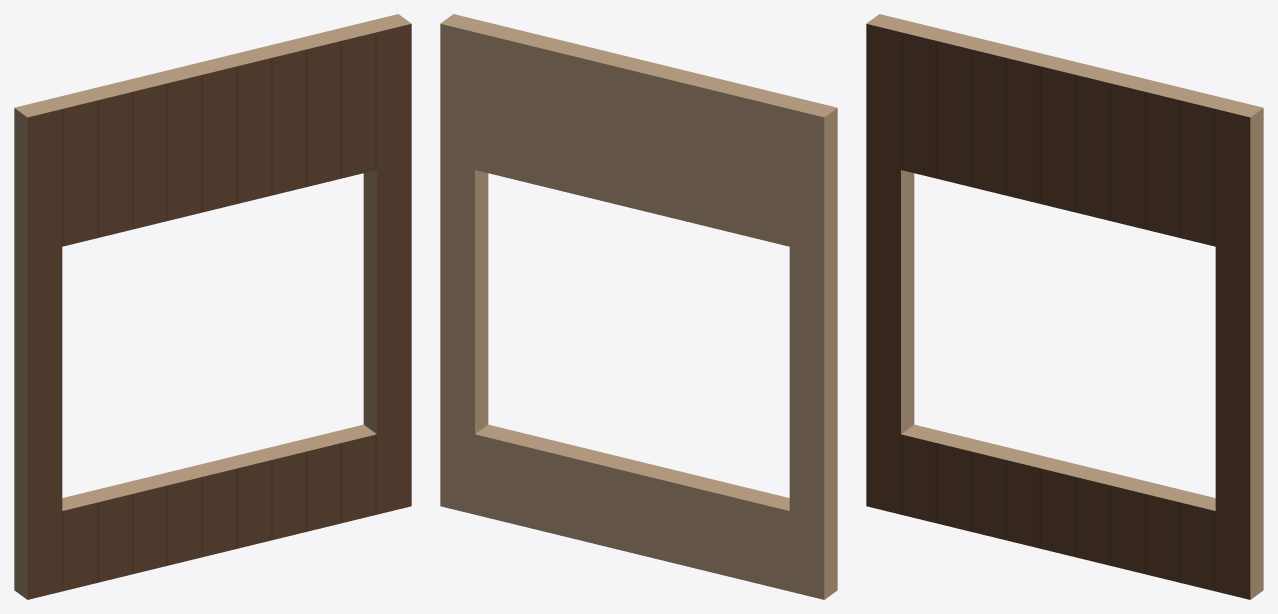
Rendered from Wall3_C9_05.fbx.
3 renders of one model, left to right at view 1: azimuth 30°, elevation 25°; view 2: azimuth 150°, elevation 25°; view 3: azimuth 330°, elevation 25°, orthographic.
Parts seen in each view (by area): view 1: Wall3_C9_05; view 2: Wall3_C9_05; view 3: Wall3_C9_05.
Boxes of the visible parts, left/top/right/bottom form: Wall3_C9_05: left=14, top=14, right=411, bottom=599; Wall3_C9_05: left=440, top=14, right=837, bottom=599; Wall3_C9_05: left=866, top=14, right=1263, bottom=599.
Size of the model in its own units: 250 by 300 by 15.
